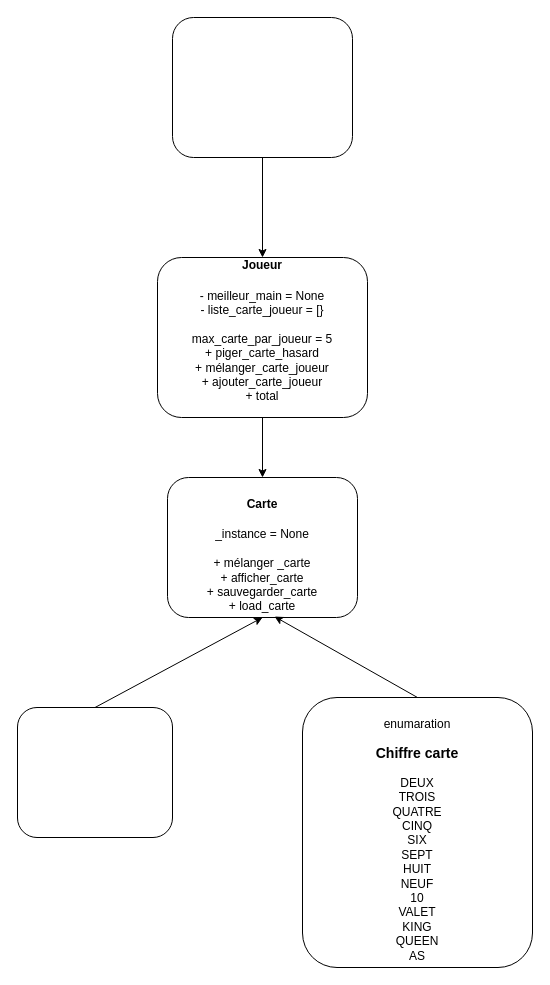
This 550x985 diagram has some shape labels left out. The shapes that lost their labels are listed below. From the top down, each one's centre as x and y in pixels, then its label:
point (262, 87): Personne - nom : str - age : int - bio : str
point (94, 772): enumaration Carte Carreau Trefle Coeur Pique
